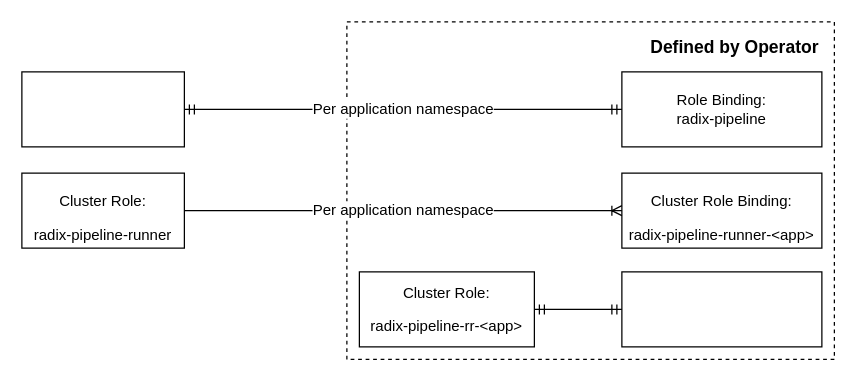
This 856x381 diagram has some shape labels left out. Each missing label, with the centre of its shape:
"Cluster Role Binding: radix-pipeline-rr- < app >" goes at [721,309].
"Cluster Role: radix-pipeline" goes at [102,109].
